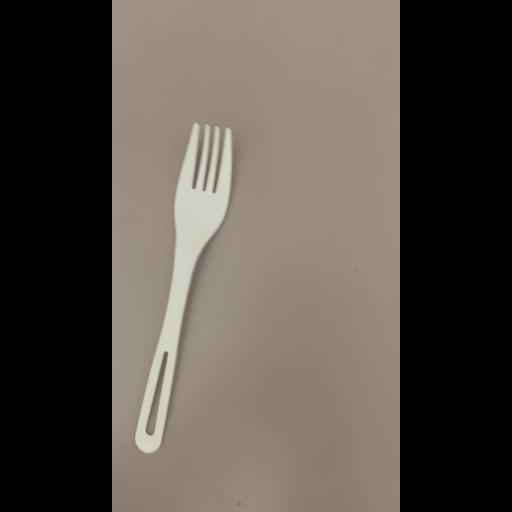utensil: (135, 117, 235, 459)
